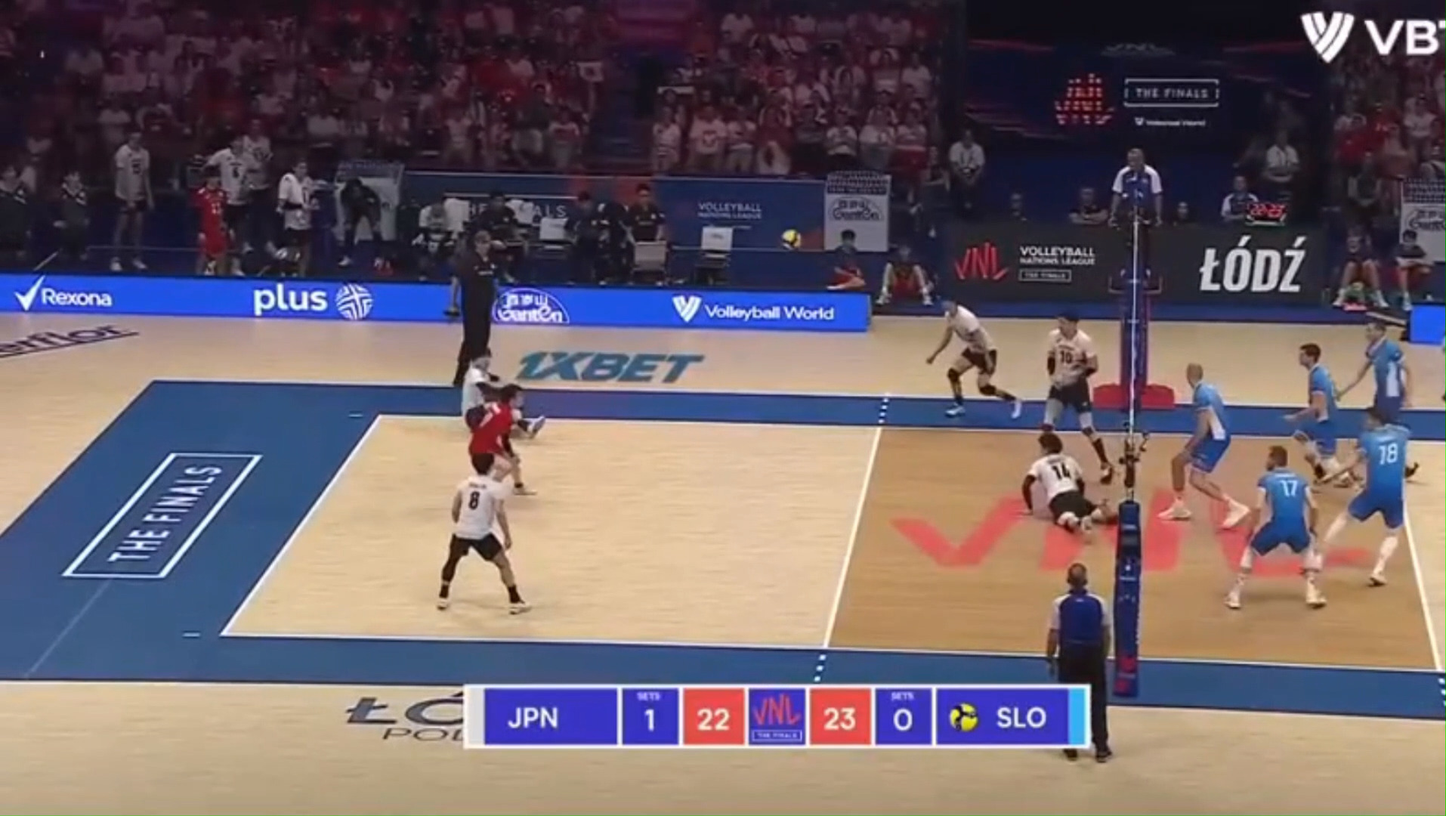ball: (780, 229, 801, 249)
player: (1226, 445, 1325, 609), (1321, 406, 1409, 586), (1159, 363, 1248, 527), (1342, 320, 1408, 423), (1289, 343, 1339, 477)
player 1: (437, 454, 527, 613), (1041, 314, 1114, 484), (926, 298, 1022, 418), (1022, 431, 1112, 537), (468, 385, 524, 491), (461, 357, 503, 429), (514, 412, 545, 435)
referee: (1045, 563, 1112, 761), (1108, 148, 1162, 293), (446, 230, 496, 385)
